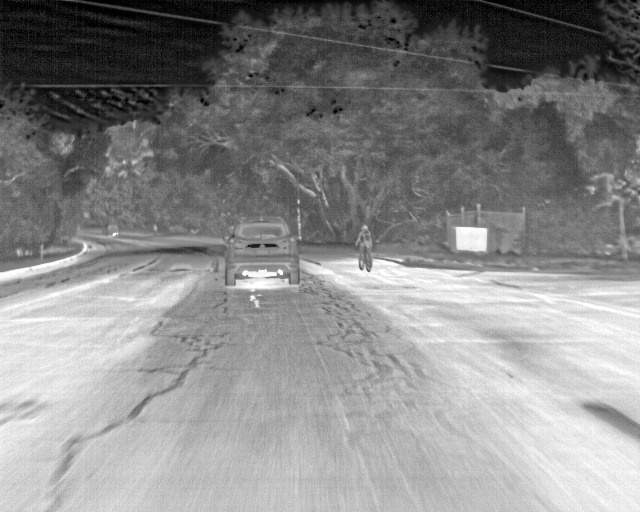vehicle: (224, 215, 301, 286)
